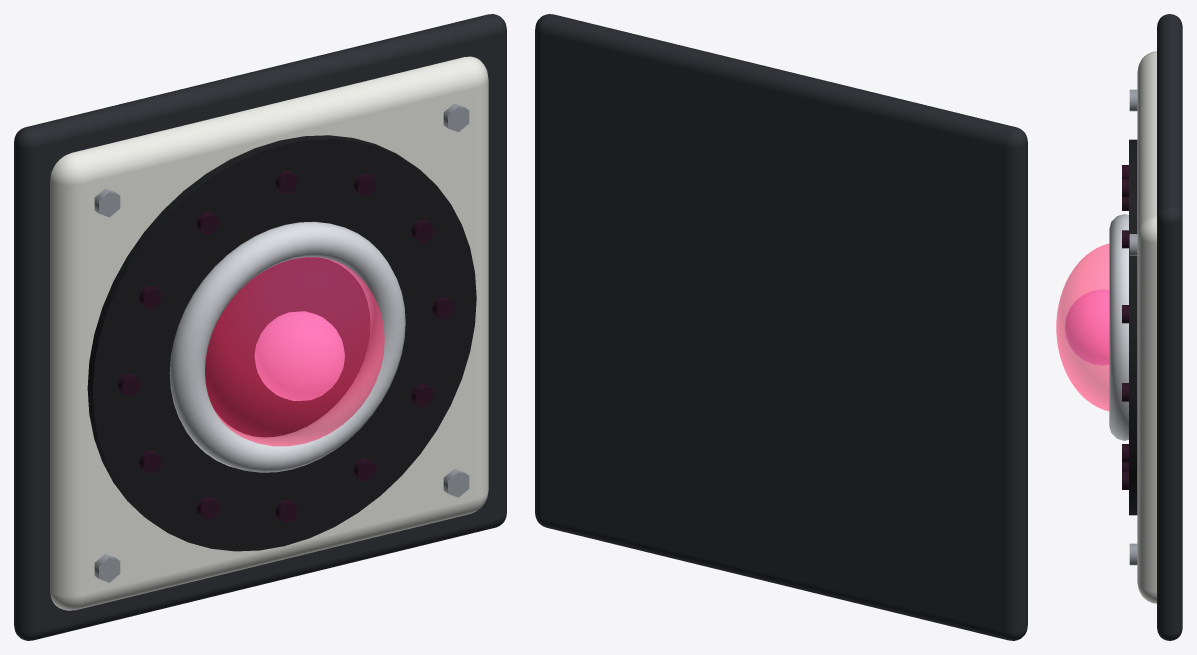
Rendered from push_arcade_wall.glb.
The picture shows the model from 3 angles, left to right: view 1: azimuth 30°, elevation 25°; view 2: azimuth 150°, elevation 25°; view 3: azimuth 270°, elevation 25°; orthographic projection. The views are drawn at different scales.
Parts seen in each view (by area): view 1: group, cap; view 2: group; view 3: group, cap.
Boxes of the visible parts, x1,y1,x2,y2 form: group: [14, 14, 506, 640]; cap: [205, 257, 384, 446]; group: [535, 14, 1027, 640]; group: [1109, 14, 1182, 640]; cap: [1056, 243, 1109, 411].
Size of the model in its own units: 0.56 by 0.56 by 0.148.
